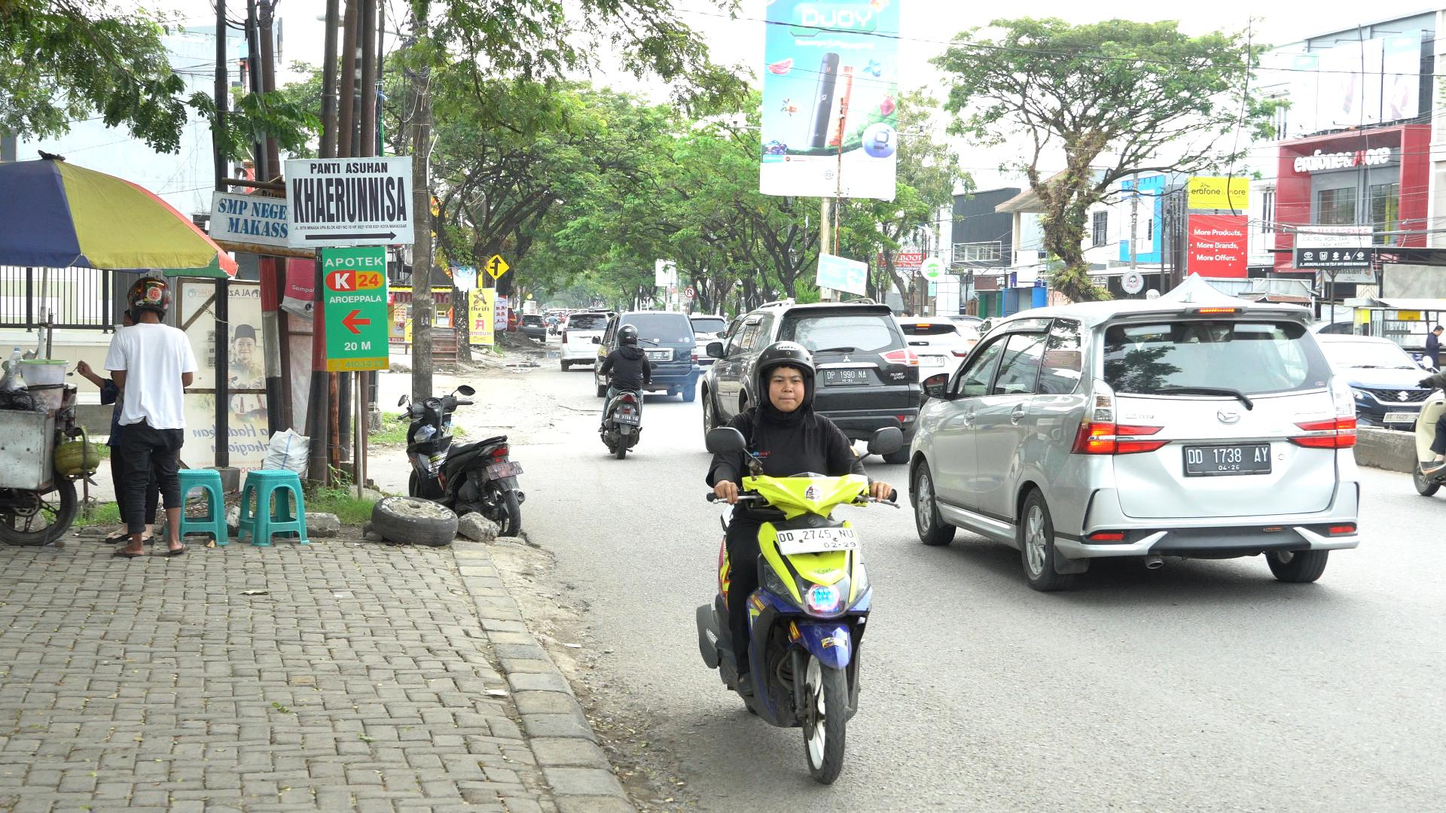number-plate: (777, 527, 864, 556)
